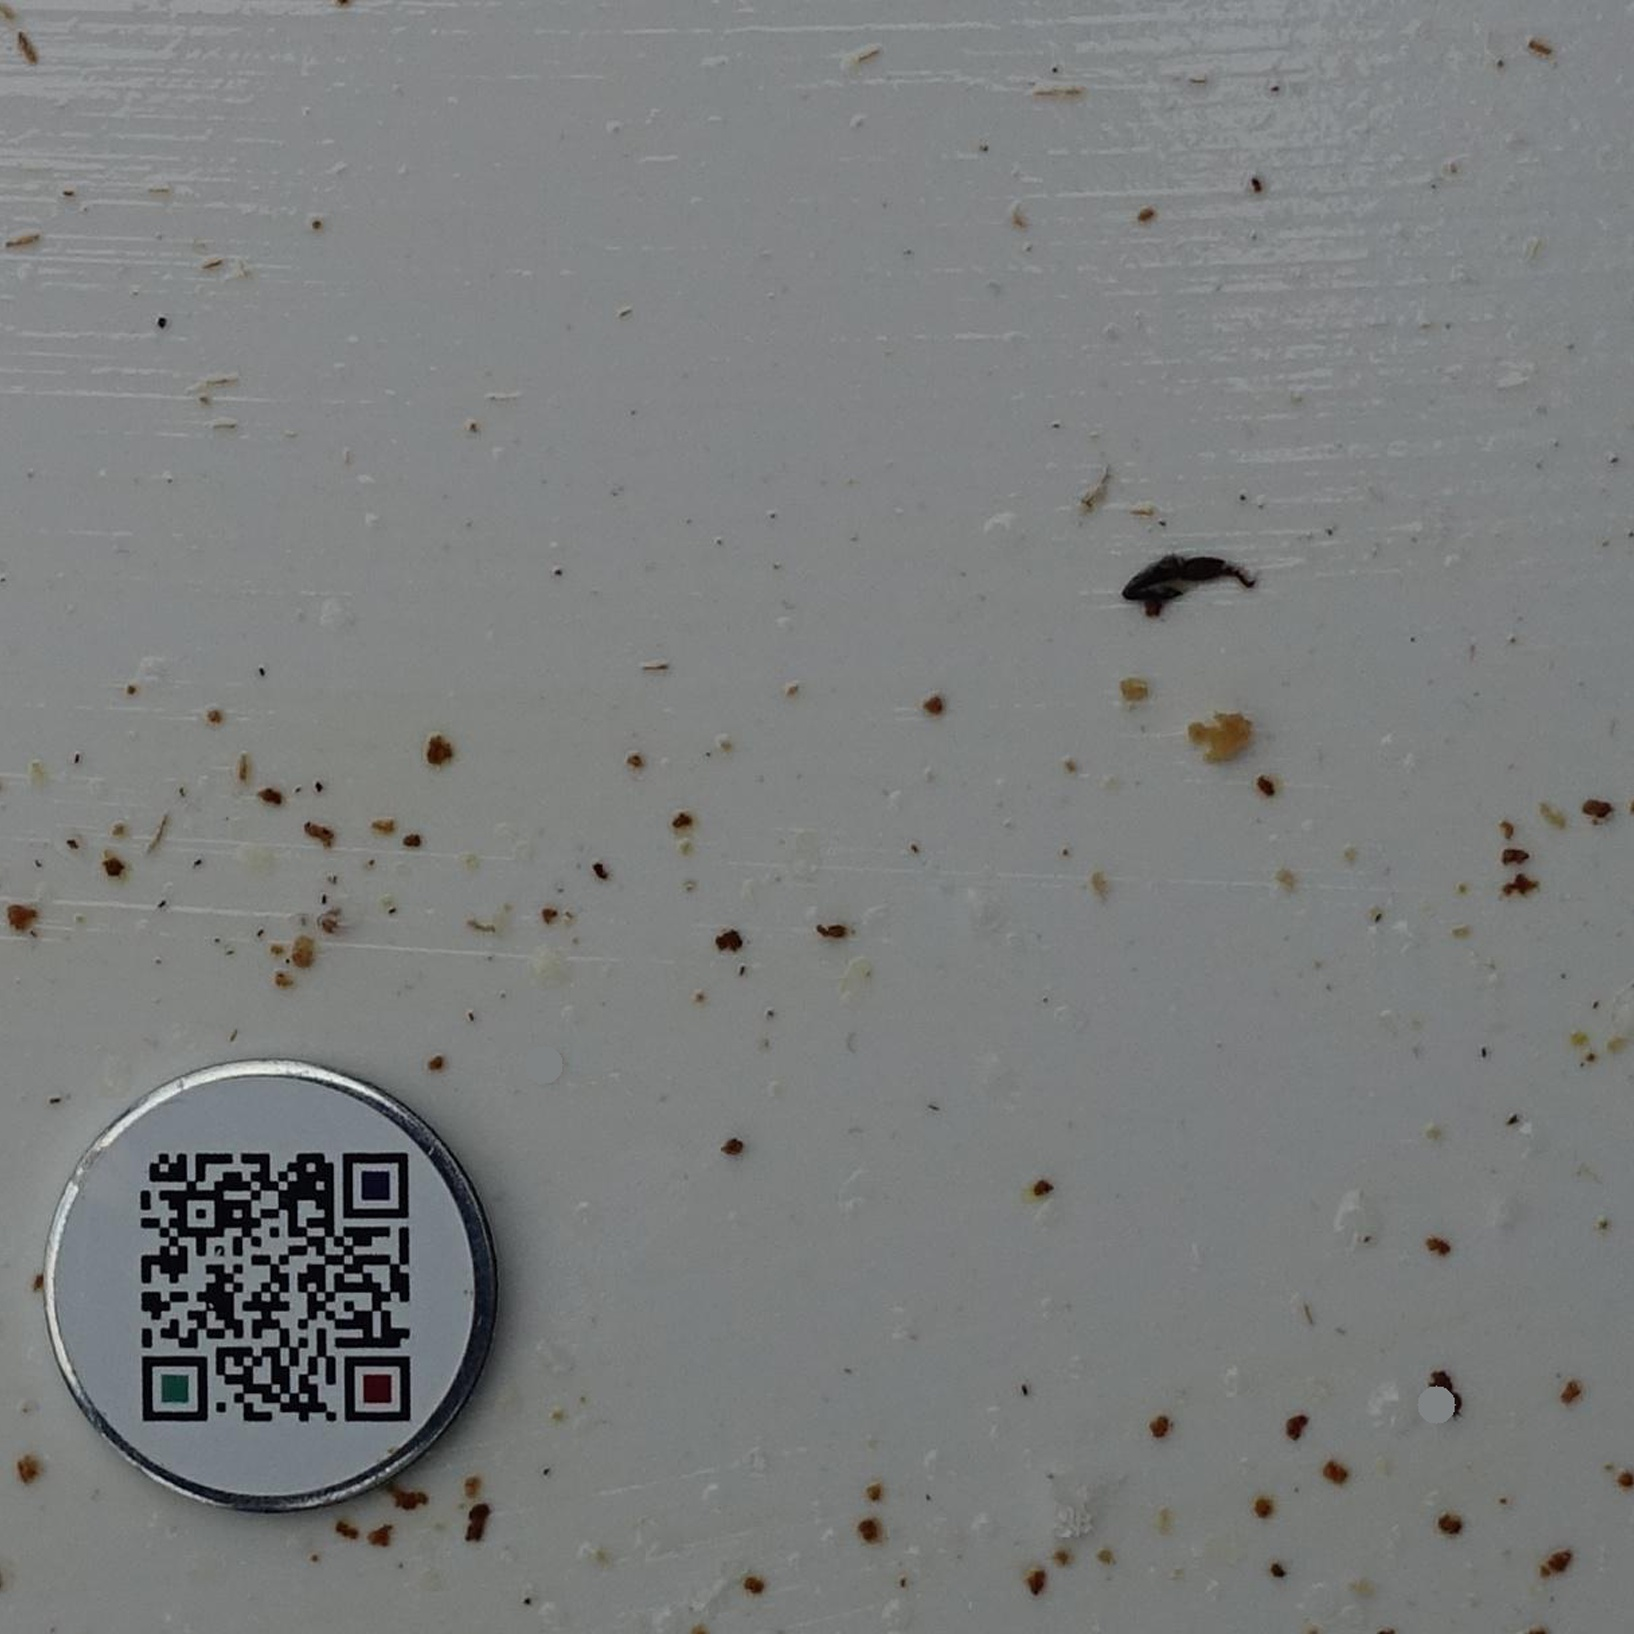Varroa: (1448, 1395, 1460, 1410)
